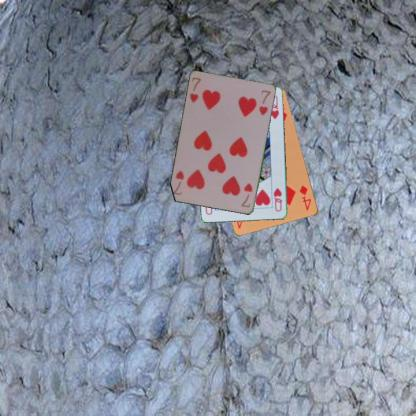4d: (297, 182, 313, 212)
7h: (238, 181, 254, 209), (187, 75, 202, 104)
Qh: (271, 186, 284, 213)
